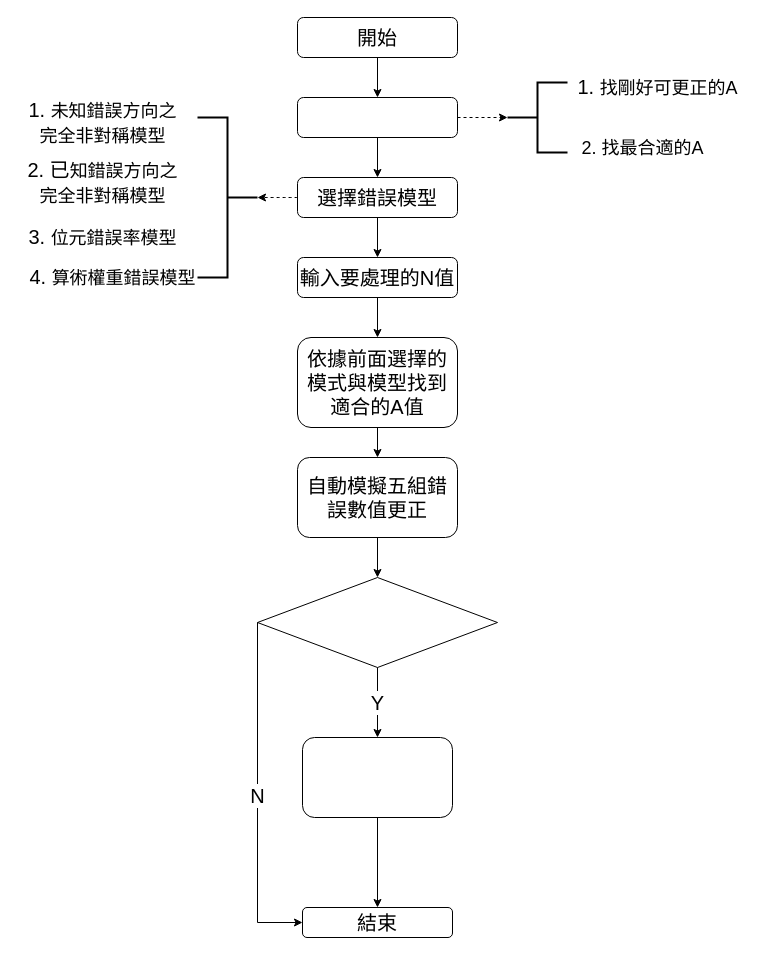
This 764x955 diagram has some shape labels left out. The shapes that lost their labels are listed below. From the top down, each one's centre as x and y in pixels, then its label:
At point (377, 117): "選擇 A 的模式".
At point (377, 622): "是否生成Verilog檔案".
At point (377, 777): "自動編譯並跳出 驗證的波形圖".
